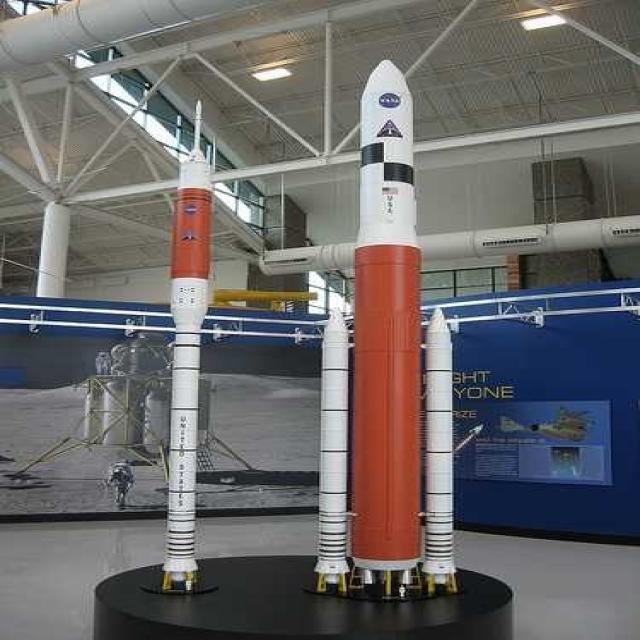missile: (306, 54, 472, 593), (143, 101, 210, 592)
